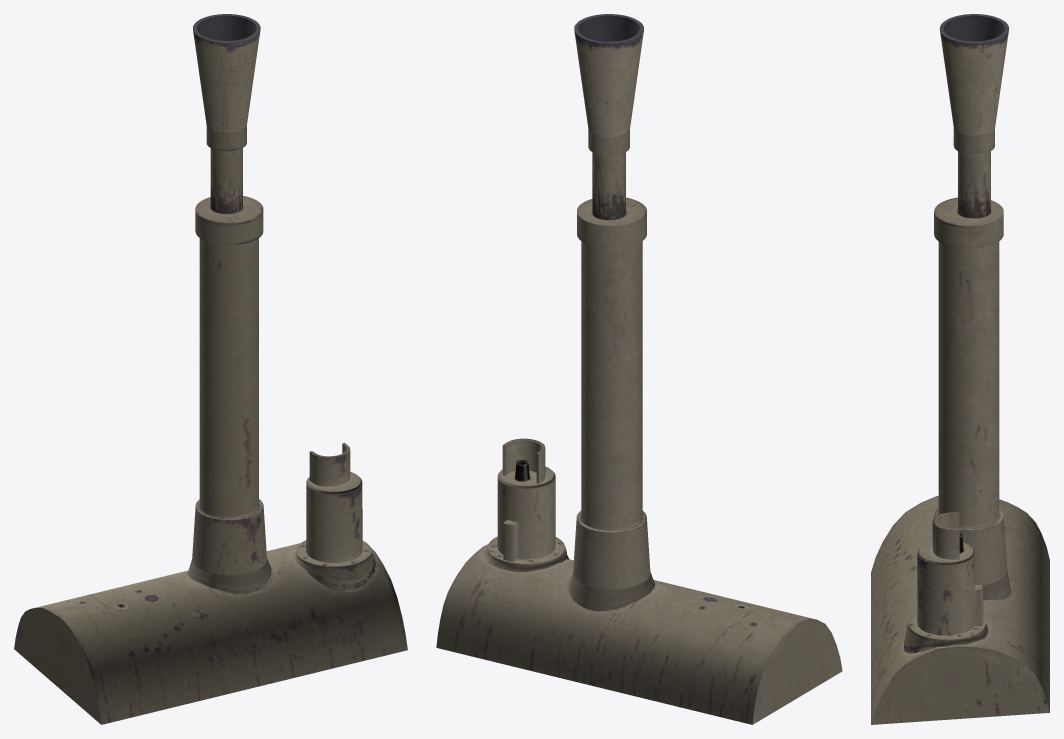
The model's file is Gun_02.glb.
The picture shows the model from 3 angles, left to right: view 1: azimuth 30°, elevation 25°; view 2: azimuth 150°, elevation 25°; view 3: azimuth 270°, elevation 25°; orthographic projection. The views are drawn at different scales.
Parts seen in each view (by area): view 1: set_0_group_0; view 2: set_0_group_0; view 3: set_0_group_0.
Boxes of the visible parts, bbox=[...] form: set_0_group_0: bbox=[14, 14, 407, 724]; set_0_group_0: bbox=[436, 14, 842, 724]; set_0_group_0: bbox=[871, 14, 1049, 724].
Bounding box in the file's own units: 0.8187 × 1.57 × 0.4041.
Materials: 1 (1 with a texture image).
